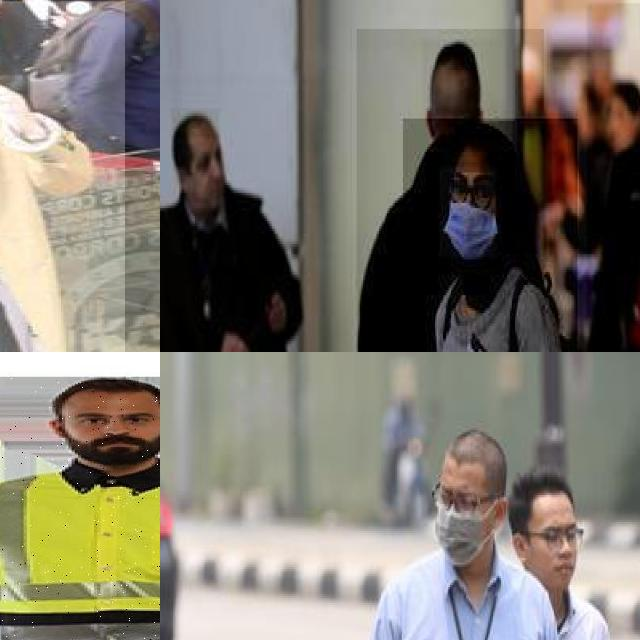No_Ear-Protection: (48, 416, 71, 443)
No_Glasses: (67, 403, 159, 432)
face_mask: (440, 168, 497, 260), (434, 484, 491, 567)
face_nomask: (526, 516, 578, 590), (188, 139, 226, 211)
glasses: (431, 485, 484, 521), (542, 521, 588, 554)
hand_noglove: (0, 79, 29, 124), (215, 324, 255, 352)
head_nohelmet: (422, 39, 499, 119), (442, 421, 502, 479), (512, 464, 578, 515), (454, 121, 517, 172), (171, 108, 221, 139)
person: (356, 29, 545, 352), (0, 1, 127, 352), (356, 427, 563, 640), (160, 74, 316, 352), (0, 377, 160, 640), (403, 118, 579, 352), (512, 434, 617, 640)
vest: (0, 461, 160, 623)
